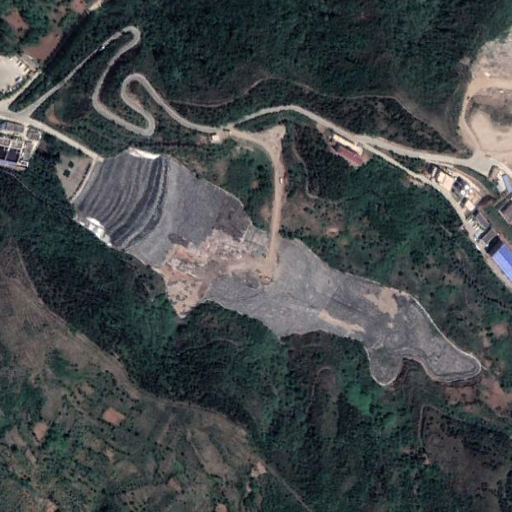lf: (71, 148, 479, 389)
